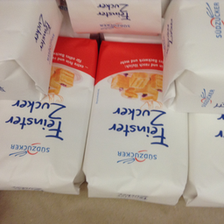tomato_sauce: (80, 38, 189, 205), (1, 35, 95, 195)
